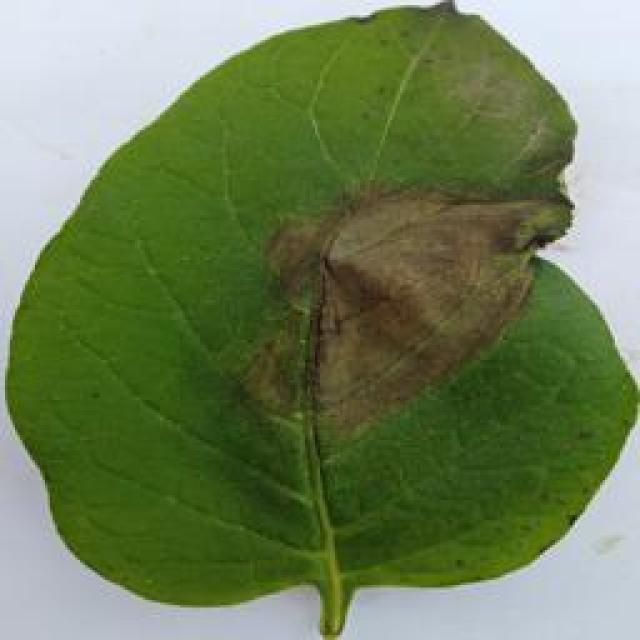Potato_Late_Blight: (9, 4, 628, 632)
